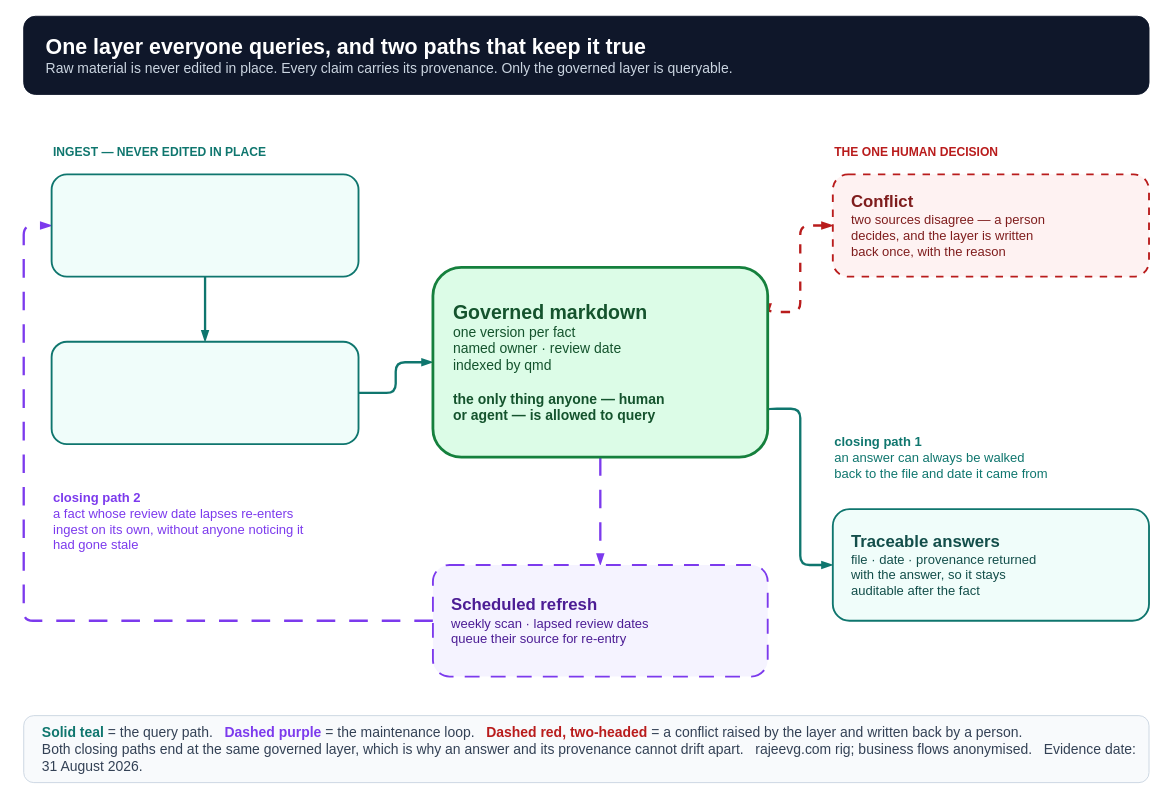
The diagram is 1166 pixels wide and 799 high, and some of its shapes have lost their labels. The centre of each missing label's shape, as x and y in pixels:
Changed sources files · email · decks review debt surfaces here first: (x=204, y=225)
Extraction entities · dates provenance attached to every claim: (x=204, y=392)
